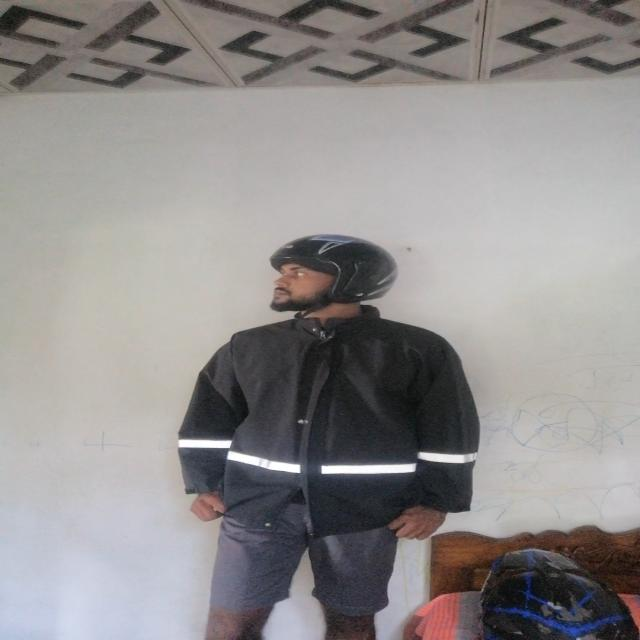Helmet_Wearer: (253, 228, 400, 320)
Jacket_Wearer: (169, 310, 495, 548)
Person: (178, 230, 492, 640)
